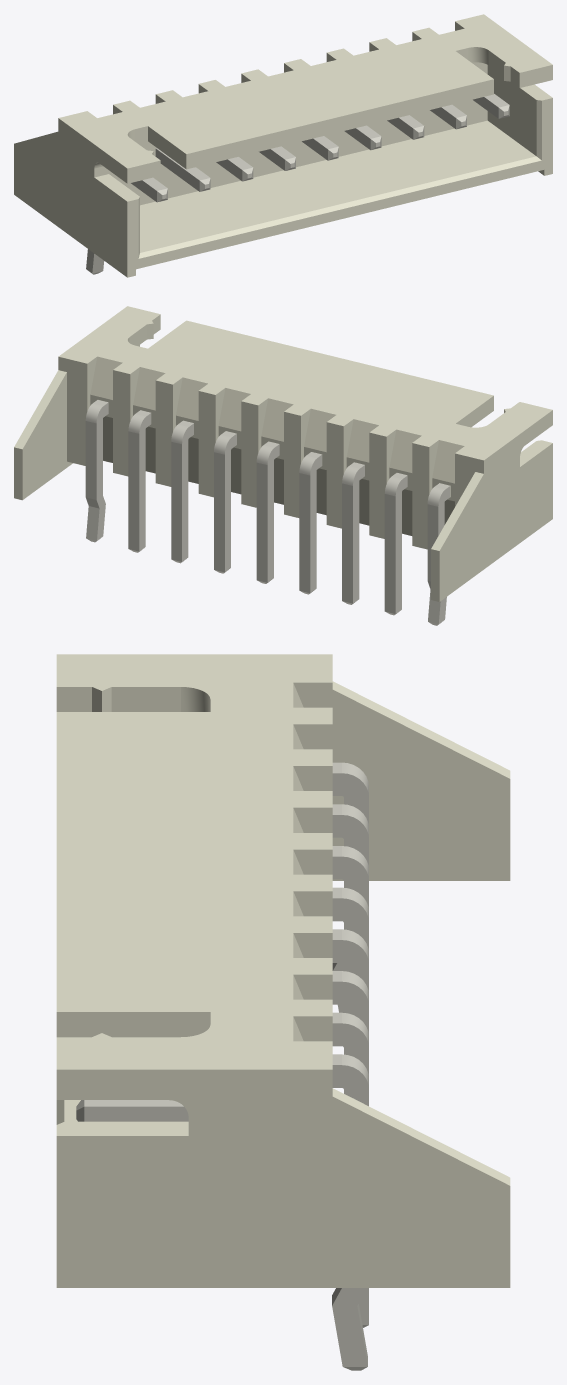
File: kc-jst_xh_s9b-xh-a-1_1x09_p2.50mm_horizontal.glb
3 views of the same model, one above another, from view 1: azimuth 30°, elevation 25°; view 2: azimuth 150°, elevation 25°; view 3: azimuth 270°, elevation 25° (orthographic). The views are drawn at different scales.
Visible parts, largest first — view 1: 0.75_0.75_0.5833333333333334_0, 0.6666666666666666_0.6666666666666666_0.5833333333333334_0.8; view 2: 0.75_0.75_0.5833333333333334_0, 0.6666666666666666_0.6666666666666666_0.5833333333333334_0.8; view 3: 0.75_0.75_0.5833333333333334_0, 0.6666666666666666_0.6666666666666666_0.5833333333333334_0.8.
Part boxes in pixels (x1,y1,x2,y2): 0.75_0.75_0.5833333333333334_0: [14, 14, 552, 277]; 0.6666666666666666_0.6666666666666666_0.5833333333333334_0.8: [86, 94, 509, 274]; 0.75_0.75_0.5833333333333334_0: [14, 306, 552, 601]; 0.6666666666666666_0.6666666666666666_0.5833333333333334_0.8: [85, 400, 450, 625]; 0.75_0.75_0.5833333333333334_0: [56, 654, 510, 1287]; 0.6666666666666666_0.6666666666666666_0.5833333333333334_0.8: [76, 762, 368, 1370].
Bounding box in the file's own units: 2.49 × 0.95 × 1.15.
